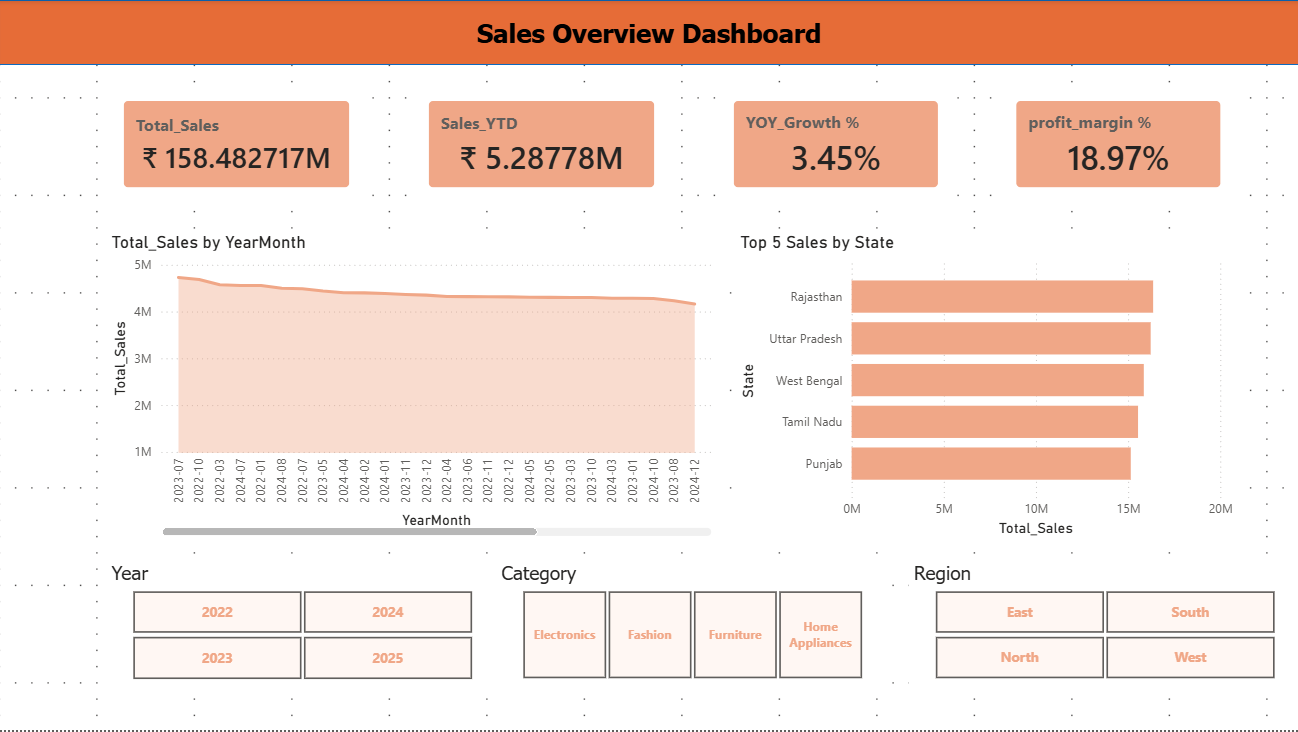

This screenshot's page, from the dashboard's own definition file:
{"tool":"powerbi","page":{"name":"sales overview dashboard","canvas":[1280,720],"ordinal":0},"visuals":[{"type":"shape","title":"Sales Overview ","box":[0,0,1280,64],"z":0},{"type":"cardVisual","fields":{"Data":["All Measures.Total_Sales"]},"box":[105.8,82.5,256,119.4],"z":1000},{"type":"cardVisual","fields":{"Data":["All Measures.Sales_YTD"]},"box":[406.2,82.5,256,119.4],"z":2000},{"type":"cardVisual","fields":{"Data":["All Measures.YOY_Growth %"]},"box":[706.5,82.5,235.1,119.4],"z":3000},{"type":"cardVisual","fields":{"Data":["All Measures.profit_margin %"]},"box":[984.6,82.5,235.1,119.4],"z":4000},{"type":"stackedAreaChart","fields":{"Category":["Dim_Date.YearMonth"],"Y":["All Measures.Total_Sales"]},"box":[105.8,227.7,600.6,305.2],"z":5000},{"type":"barChart","title":"Top 5 Sales by State","fields":{"Category":["Orders.State"],"Y":["All Measures.Total_Sales"]},"box":[724.9,227.7,494.8,305.2],"z":6000},{"type":"slicer","title":"Year","fields":{"Values":["Dim_Date.Year"]},"box":[105.9,552,384,122.8],"z":7000},{"type":"slicer","title":"Category","fields":{"Values":["Products.Category"]},"box":[489.8,552.6,384,121.8],"z":8000},{"type":"slicer","title":"Region","fields":{"Values":["Orders.Region"]},"box":[896,552.6,384,121.8],"z":9000}]}

Visuals, with their boxes in screenshot pixels (x1, y1, x2, y2), scaled from the page's 1280x720 canvas onto the 1298x732 screenshot:
"Sales Overview " shape: bbox=[0, 0, 1297, 65]
cardVisual - All Measures.Total_Sales: bbox=[107, 84, 367, 205]
cardVisual - All Measures.Sales_YTD: bbox=[412, 84, 672, 205]
cardVisual - All Measures.YOY_Growth %: bbox=[716, 84, 955, 205]
cardVisual - All Measures.profit_margin %: bbox=[998, 84, 1237, 205]
stackedAreaChart - Dim_Date.YearMonth x All Measures.Total_Sales: bbox=[107, 231, 716, 542]
"Top 5 Sales by State" barChart: bbox=[735, 231, 1237, 542]
"Year" slicer: bbox=[107, 561, 497, 686]
"Category" slicer: bbox=[497, 562, 886, 686]
"Region" slicer: bbox=[909, 562, 1297, 686]
